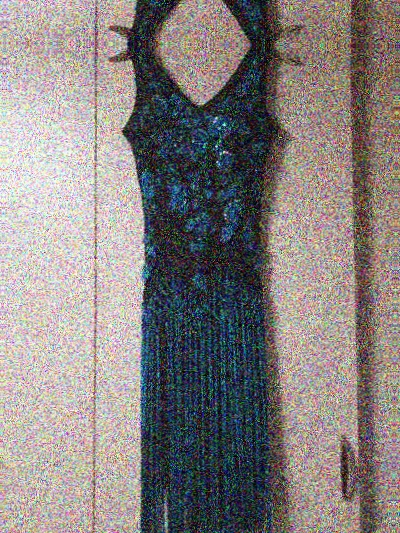Dress: (81, 51, 324, 533), (85, 0, 328, 38)
